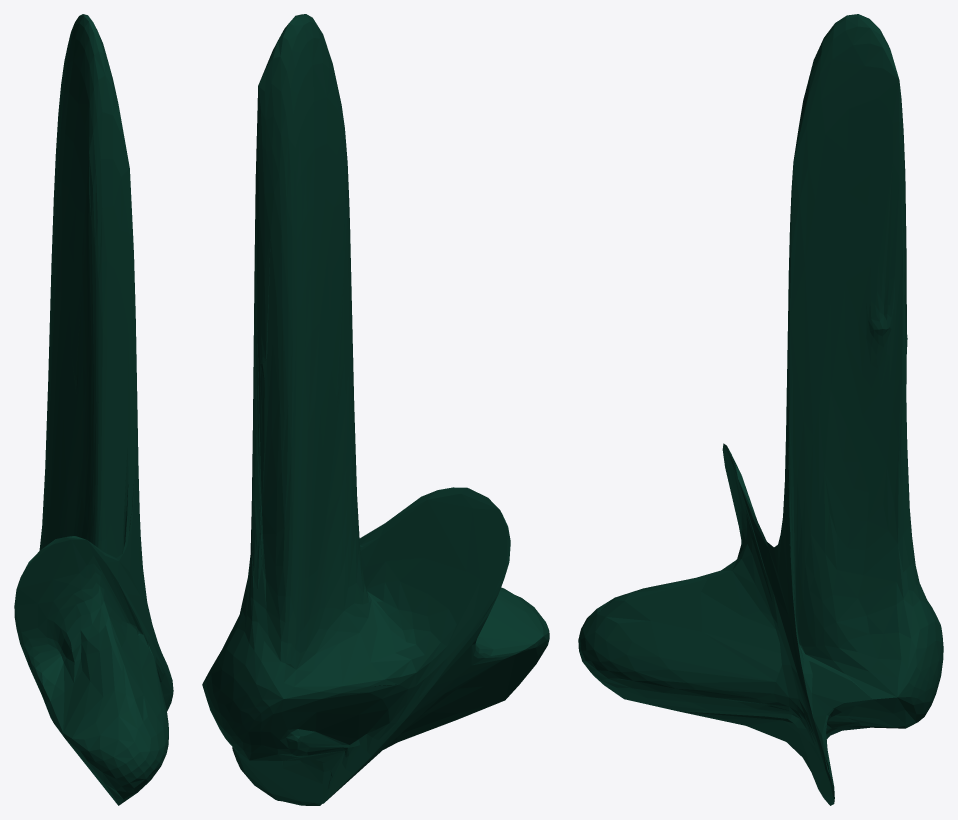
3 renders of one model, left to right at view 1: azimuth 30°, elevation 25°; view 2: azimuth 150°, elevation 25°; view 3: azimuth 270°, elevation 25°, orthographic. The views are drawn at different scales.
Parts seen in each view (by area): view 1: 846_Cube.3415; view 2: 846_Cube.3415; view 3: 846_Cube.3415.
Boxes of the visible parts, <box> form: 846_Cube.3415: <box>14,14,173,805</box>; 846_Cube.3415: <box>202,14,549,805</box>; 846_Cube.3415: <box>578,14,943,805</box>.
Size of the model in its own units: 3.68 by 12.58 by 5.36.
